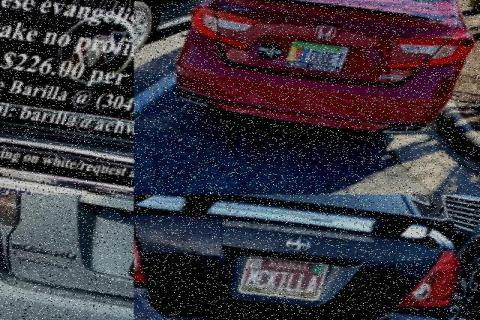LicensePlate: (237, 253, 330, 300), (284, 38, 351, 71)
